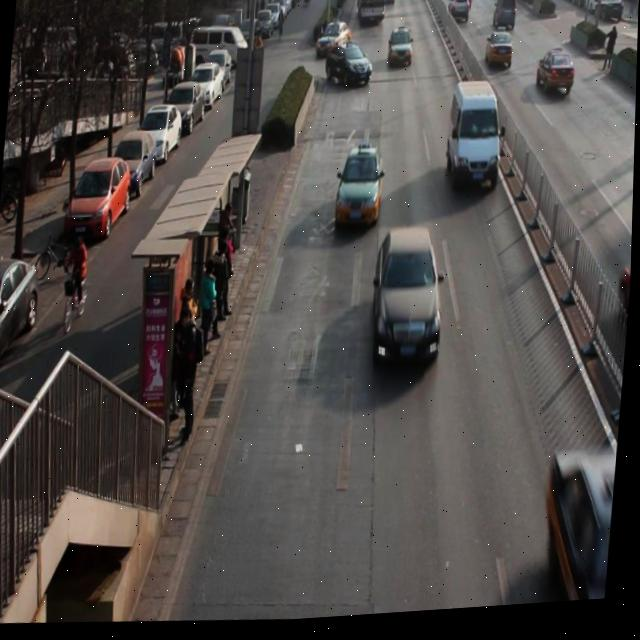car: (371, 233, 454, 377), (339, 149, 385, 232), (535, 54, 579, 110), (328, 47, 373, 91), (320, 20, 352, 67), (485, 36, 517, 78), (386, 31, 417, 74), (492, 0, 519, 38), (448, 0, 472, 31), (452, 0, 476, 18), (384, 0, 398, 11), (459, 0, 476, 5), (480, 0, 498, 4)
truck: (443, 85, 508, 196)
